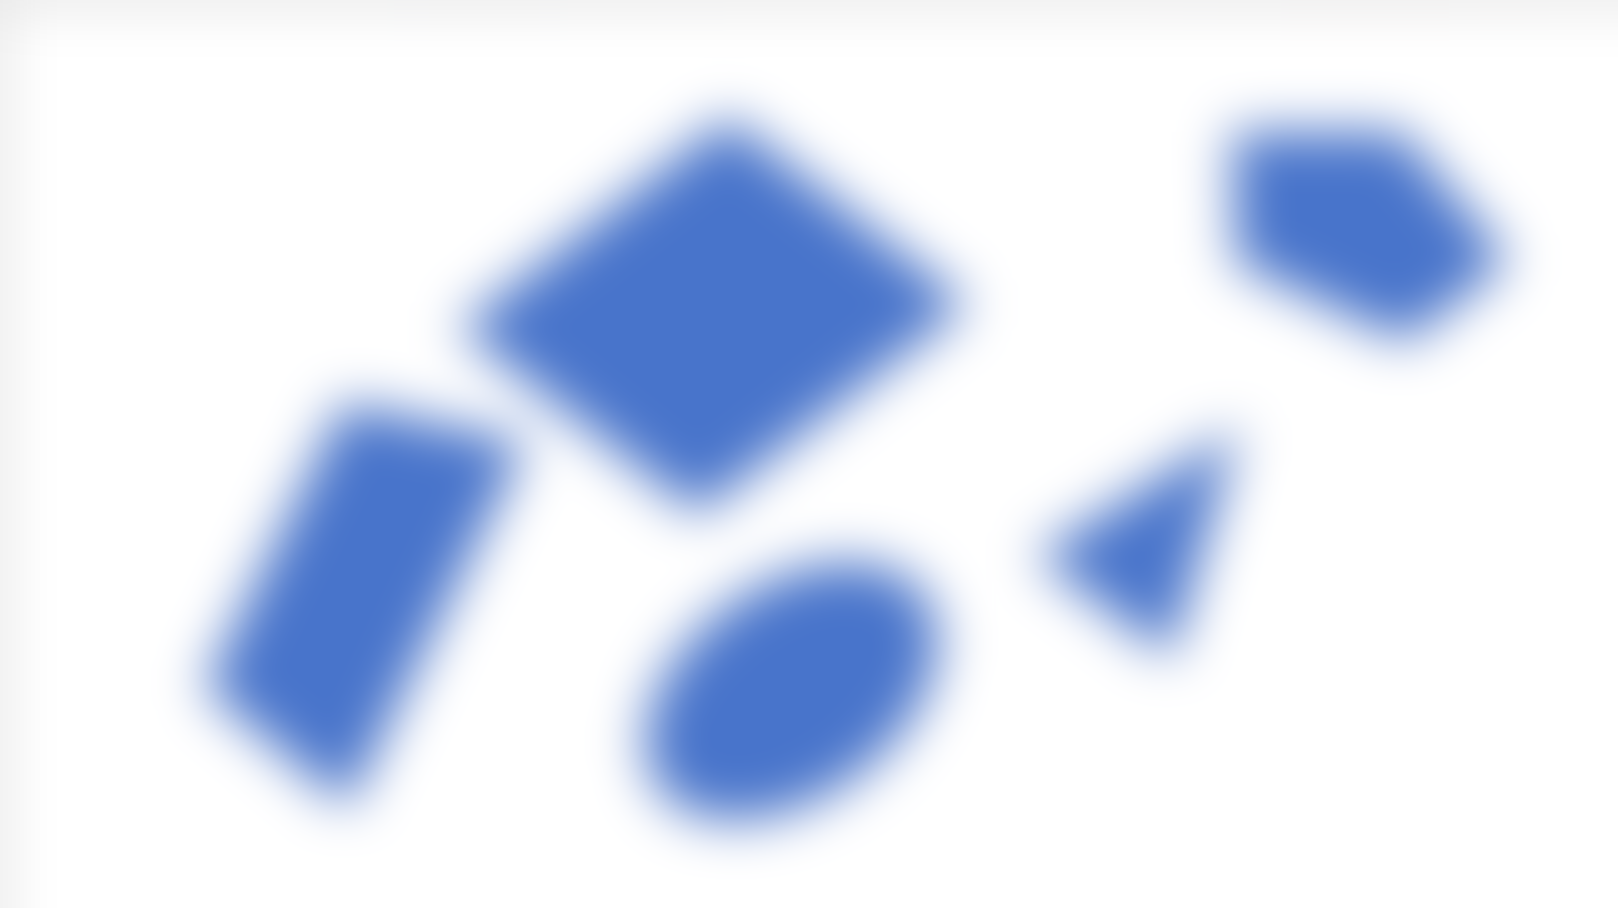circle: (618, 541, 971, 847)
parallelogram: (445, 110, 992, 519)
pentagon: (1203, 83, 1499, 360)
trapezium: (190, 388, 520, 826)
triangle: (1042, 427, 1255, 647)
